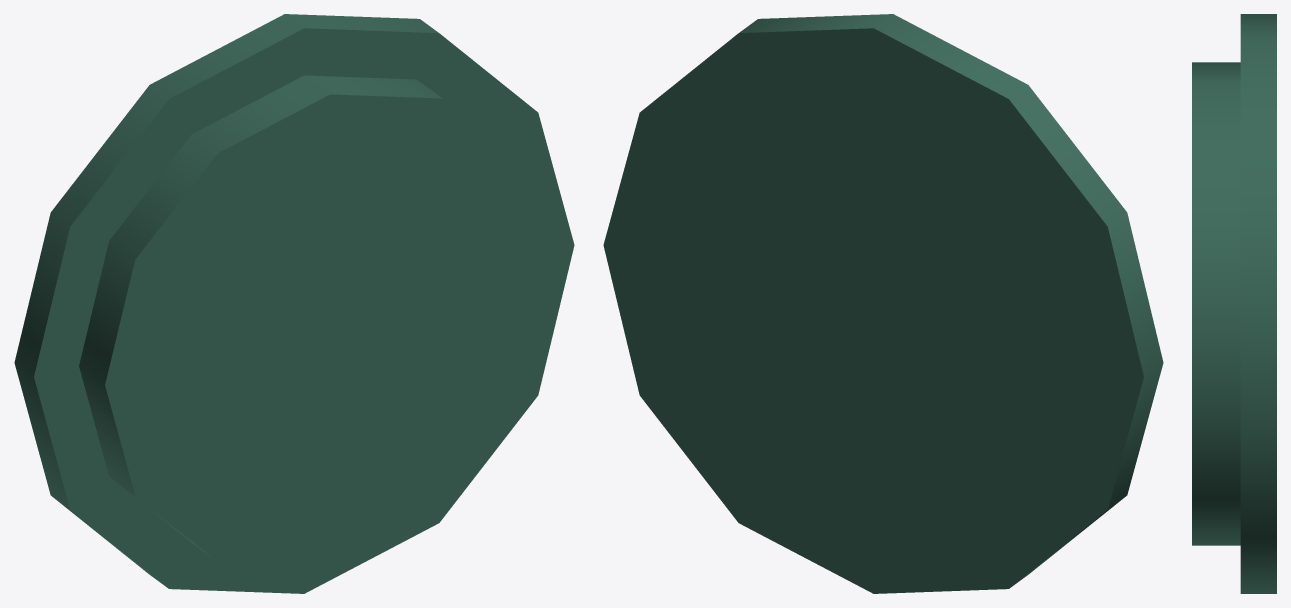
Rendered from h80_flange.obj.
3 renders of one model, left to right at view 1: azimuth 30°, elevation 25°; view 2: azimuth 150°, elevation 25°; view 3: azimuth 270°, elevation 25°, orthographic. The views are drawn at different scales.
Parts seen in each view (by area): view 1: h80_flange; view 2: h80_flange; view 3: h80_flange.
Boxes of the visible parts, x1,y1,x2,y2 form: h80_flange: (14, 14, 574, 593); h80_flange: (603, 14, 1163, 593); h80_flange: (1192, 14, 1276, 593).
Size of the model in its own units: 2.42 by 2.42 by 0.3528.
